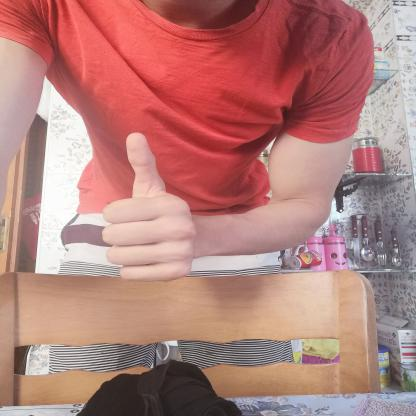ALIF: (87, 122, 208, 290)
